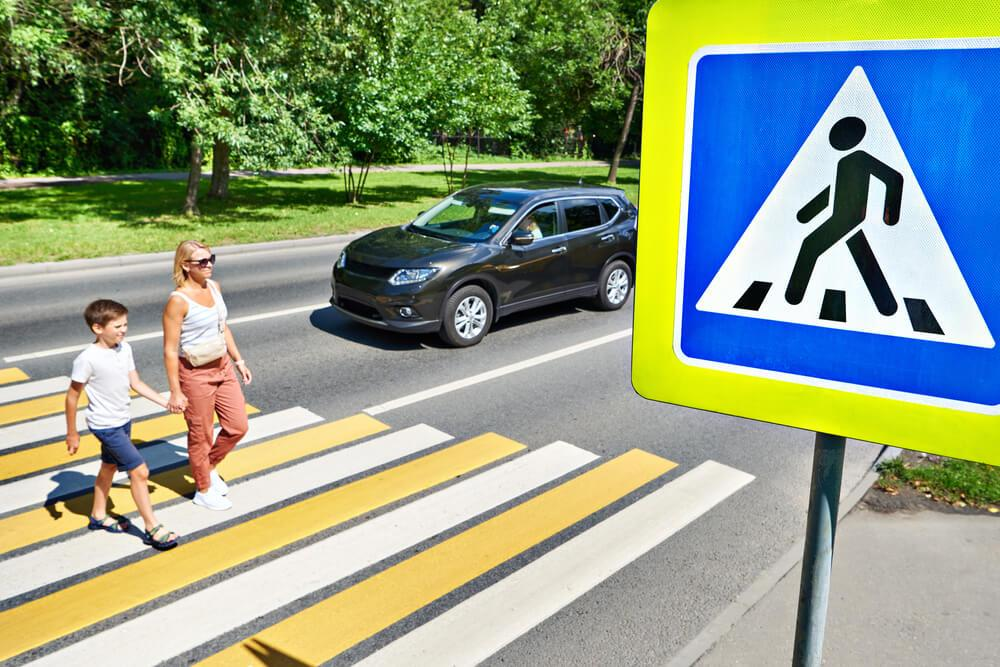car: (328, 155, 661, 351)
pedestrian: (48, 284, 195, 556), (137, 236, 268, 502)
traffic sign: (601, 1, 998, 666)
